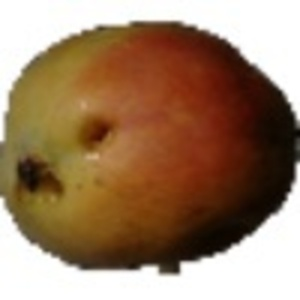mamão: (6, 17, 295, 264)
